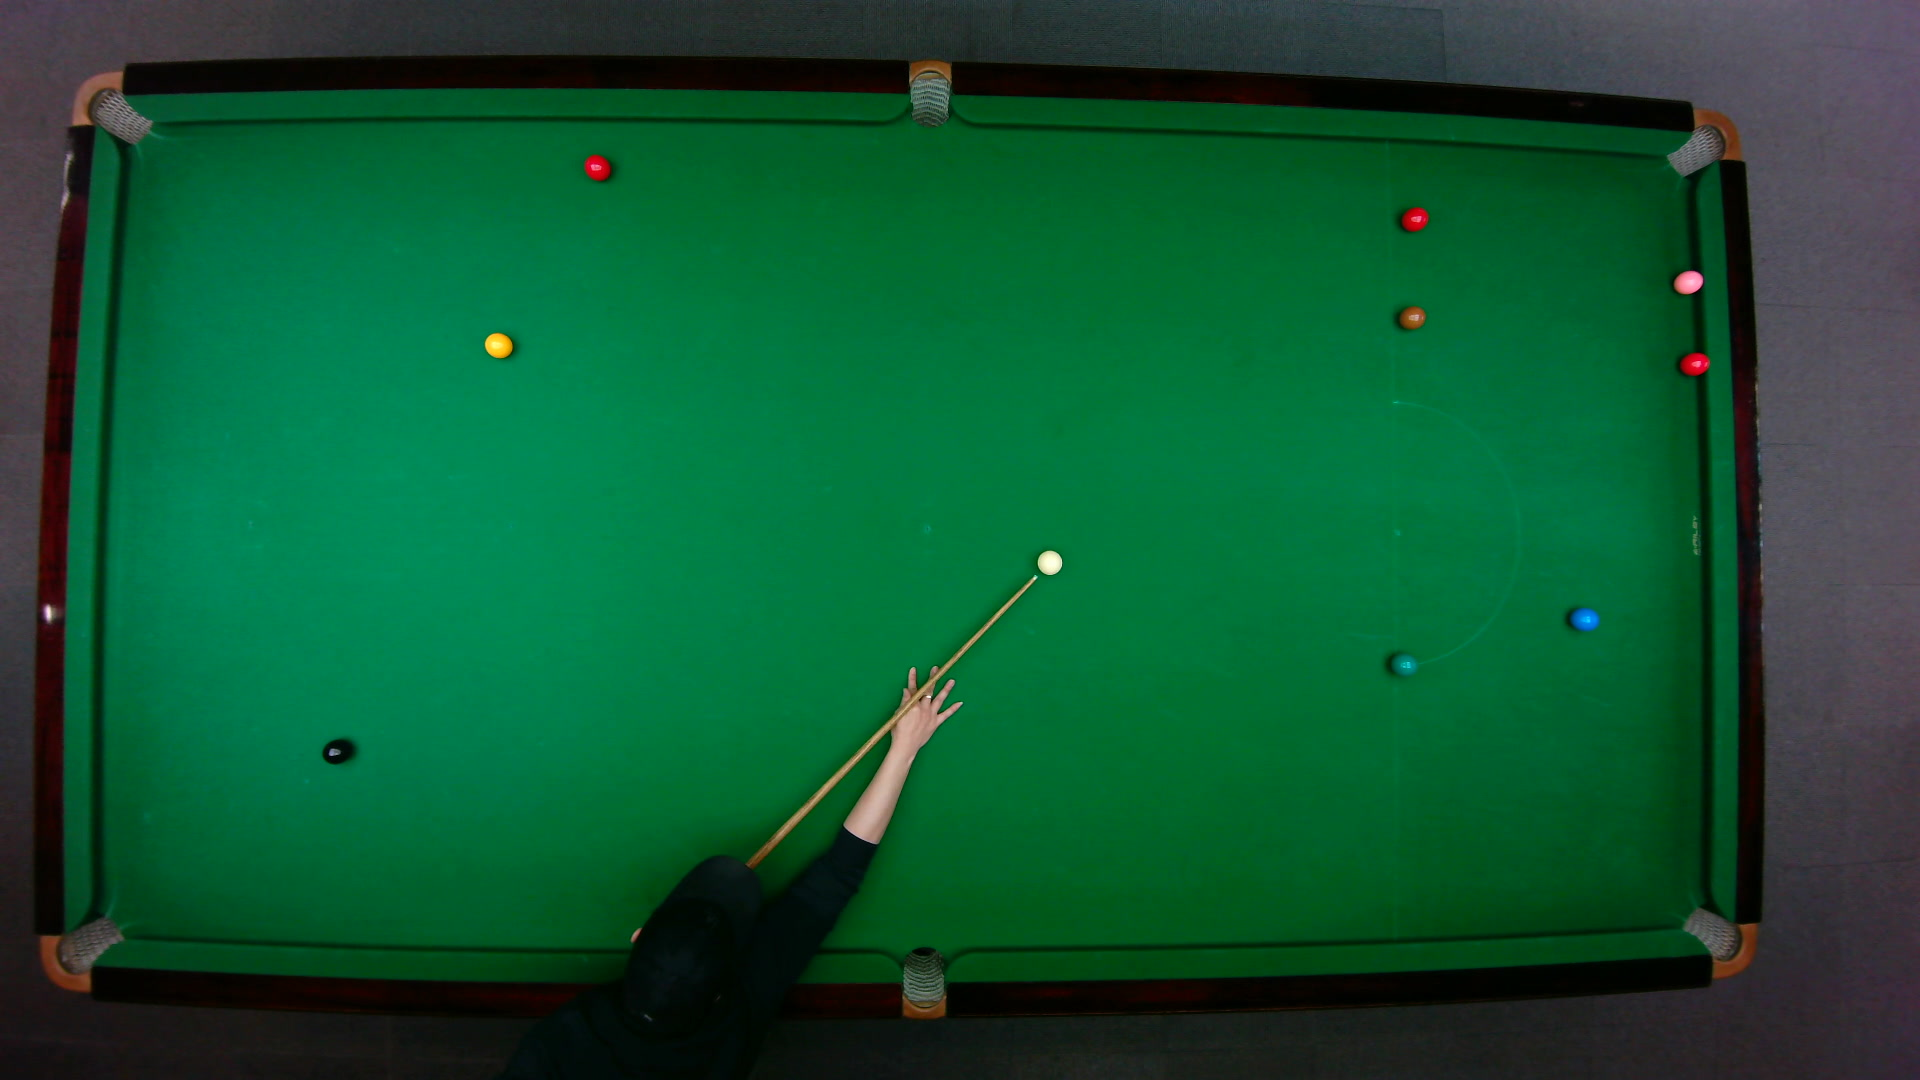bag: (37, 914, 125, 992), (69, 70, 152, 145), (1679, 905, 1758, 978), (1663, 107, 1741, 177), (901, 944, 945, 1021), (909, 57, 949, 128)
black: (320, 737, 352, 765)
blue: (1568, 607, 1600, 632)
brown: (1396, 305, 1427, 330)
cue: (744, 568, 1040, 870)
green: (1389, 650, 1418, 676)
pink: (1671, 266, 1704, 295)
red: (1677, 349, 1712, 376), (582, 153, 611, 181), (1399, 204, 1429, 231)
white: (1035, 549, 1063, 574)
yellow: (483, 330, 513, 357)
zone: (1389, 400, 1519, 667)
